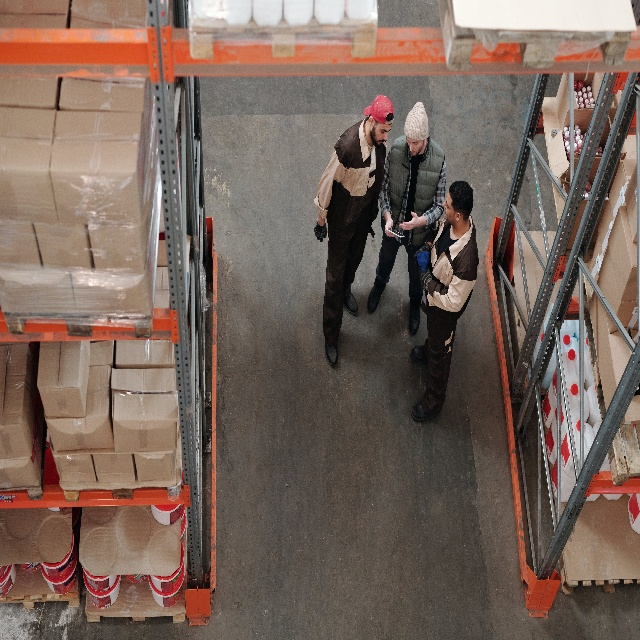Guantes: (416, 261, 432, 292), (313, 217, 327, 243), (414, 241, 430, 258)
Sin_guantes: (399, 211, 418, 231), (384, 218, 396, 236)
